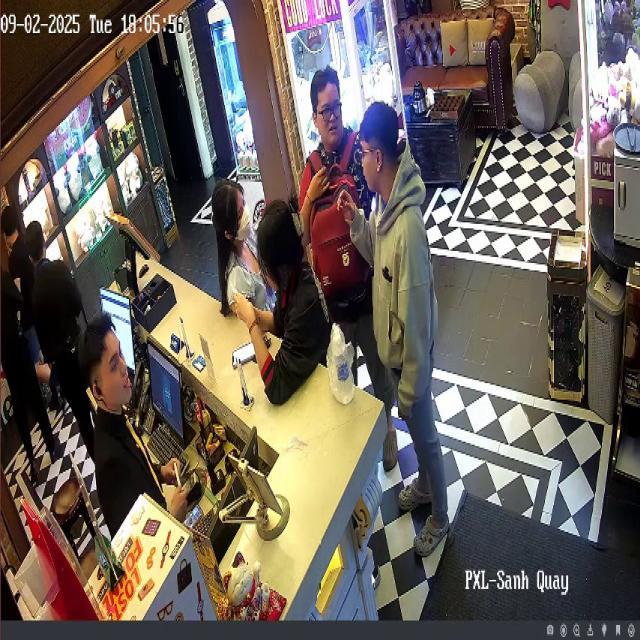khach: (337, 100, 452, 562), (294, 48, 372, 391), (233, 207, 336, 403), (199, 149, 269, 331), (5, 197, 32, 304)
nhan vien: (82, 318, 212, 571), (17, 212, 95, 423), (0, 248, 60, 484)
